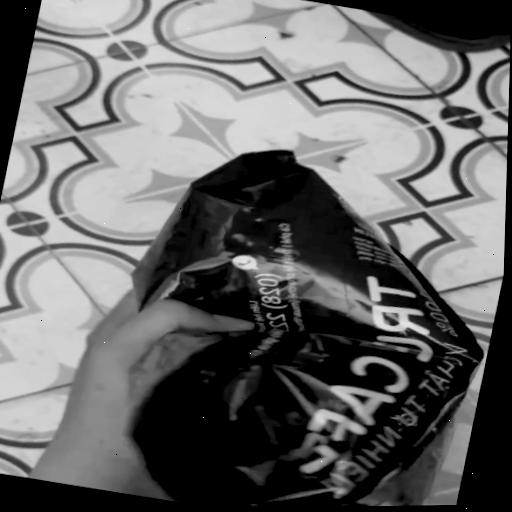cafe_hat: (128, 150, 484, 509)
